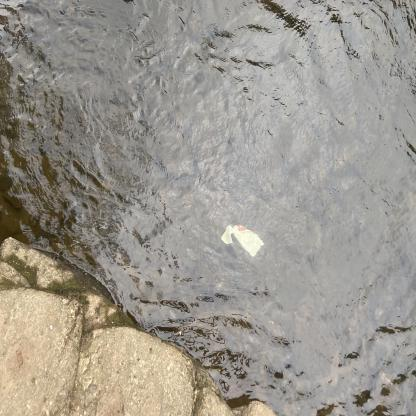trash: (218, 220, 266, 262)
